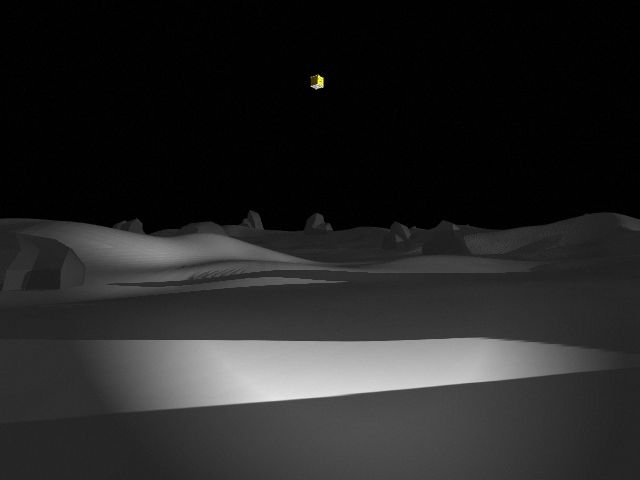cubesat: (308, 72, 326, 92)
